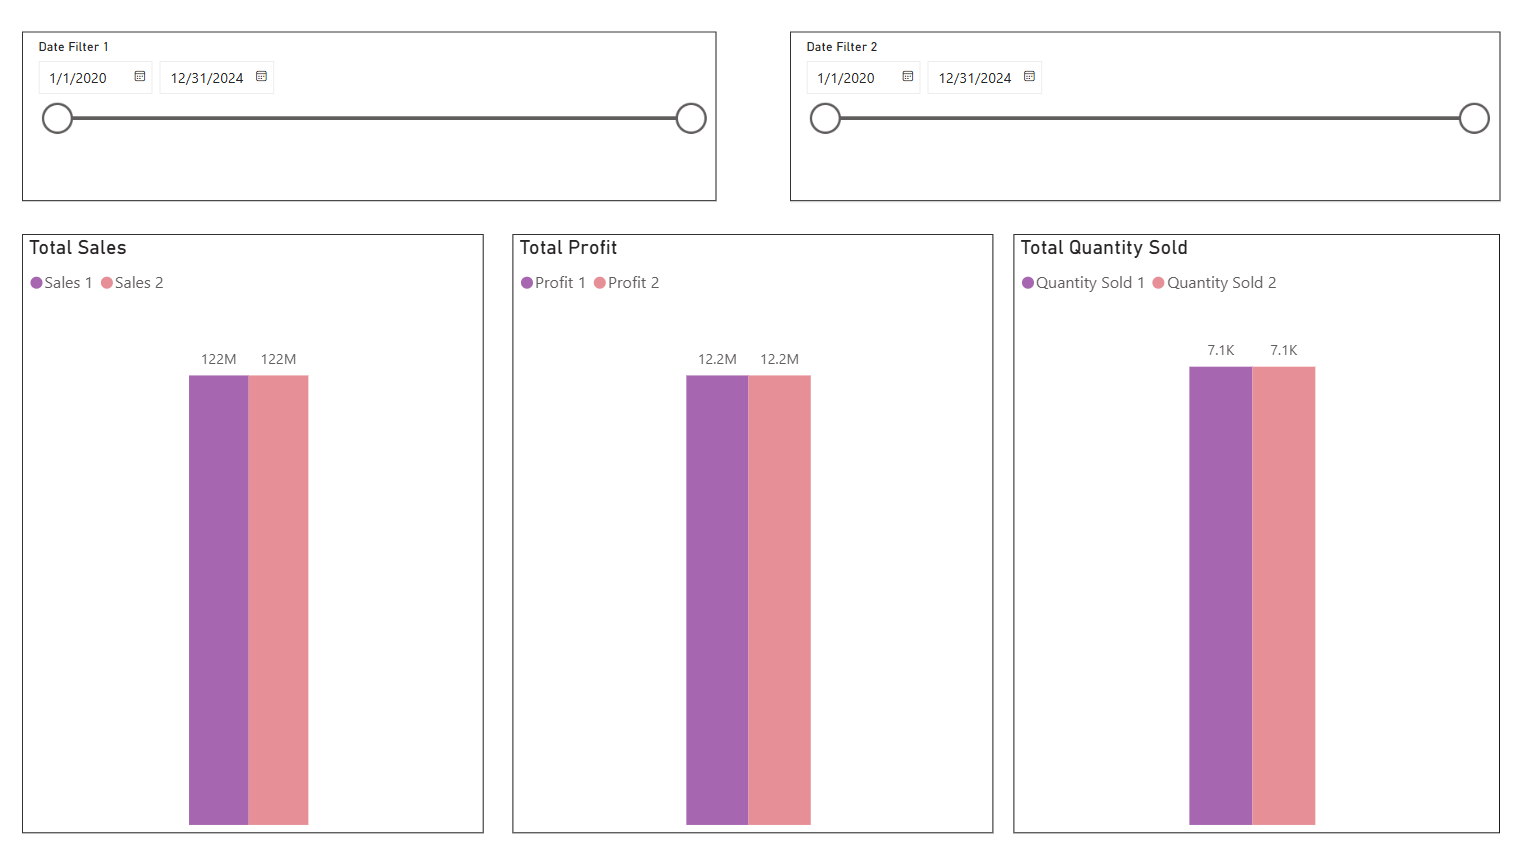

The dashboard page shown, as its layout file describes it:
{"tool":"powerbi","page":{"name":"Comparison Sales/Profit/Quantity","canvas":[1280,720],"ordinal":2},"visuals":[{"type":"slicer","fields":{"Values":["Date Table 1.Date"]},"box":[30.2,28.6,579,141.6],"z":0},{"type":"slicer","fields":{"Values":["Date Table 2.Date"]},"box":[669.6,28.6,591.7,141.6],"z":1000},{"type":"clusteredColumnChart","title":"Total Sales","fields":{"Y":["Sum(Fact Table.Net Sales  )","Date Table 1.Sum Of Net Sales"]},"box":[30.2,197.2,384.9,499.5],"z":2000},{"type":"clusteredColumnChart","title":"Total Quantity Sold","fields":{"Y":["Sum(Fact Table.Units Sold)","Measures Table.Quantity Sold"]},"box":[855.7,197.2,405.6,499.5],"z":3000},{"type":"clusteredColumnChart","title":"Total Profit","fields":{"Y":["Sum(Fact Table.Profit)","Measures Table.Total Profit"]},"box":[439,197.2,400.8,499.5],"z":4000}]}

Visuals, with their boxes in screenshot pixels (x1, y1, x2, y2), scaled from the page's 1280x720 canvas onto the 1527x864 screenshot:
slicer - Date Table 1.Date: box=[36, 34, 727, 204]
slicer - Date Table 2.Date: box=[799, 34, 1505, 204]
"Total Sales" clusteredColumnChart: box=[36, 237, 495, 836]
"Total Quantity Sold" clusteredColumnChart: box=[1021, 237, 1505, 836]
"Total Profit" clusteredColumnChart: box=[524, 237, 1002, 836]
